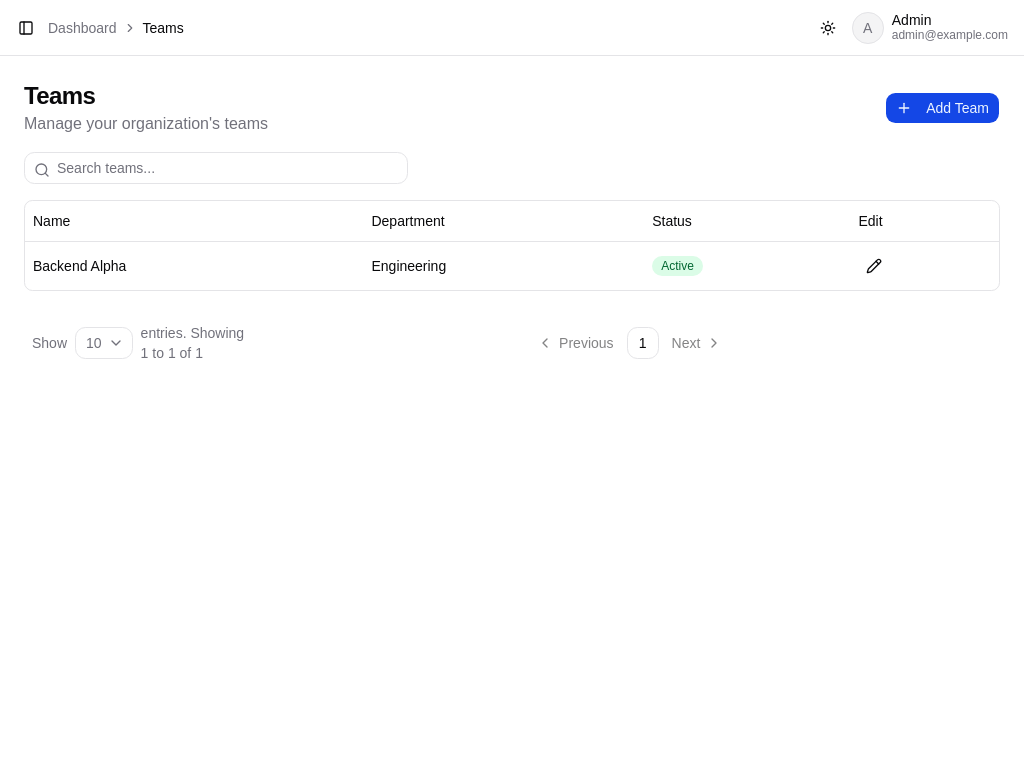
Test: Teams page › opens Add Team dialog and shows validation error for short name
Click the button "Add Team" at (943, 108), box top-left (885, 92), bottom-right (1000, 124)
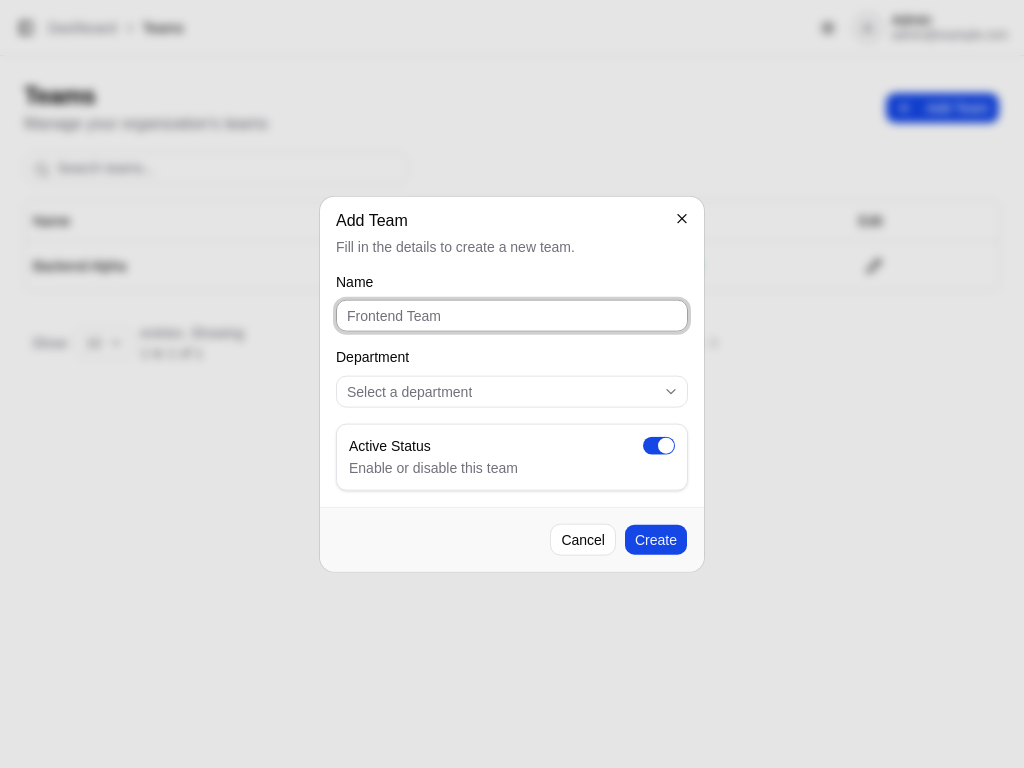
Expected: the dialog "Add Team" is shown, top-left (320, 197), bottom-right (704, 571)
Type "A" into the field with placeholder "Frontend Team" at (512, 316), box top-left (336, 300), bottom-right (688, 332)
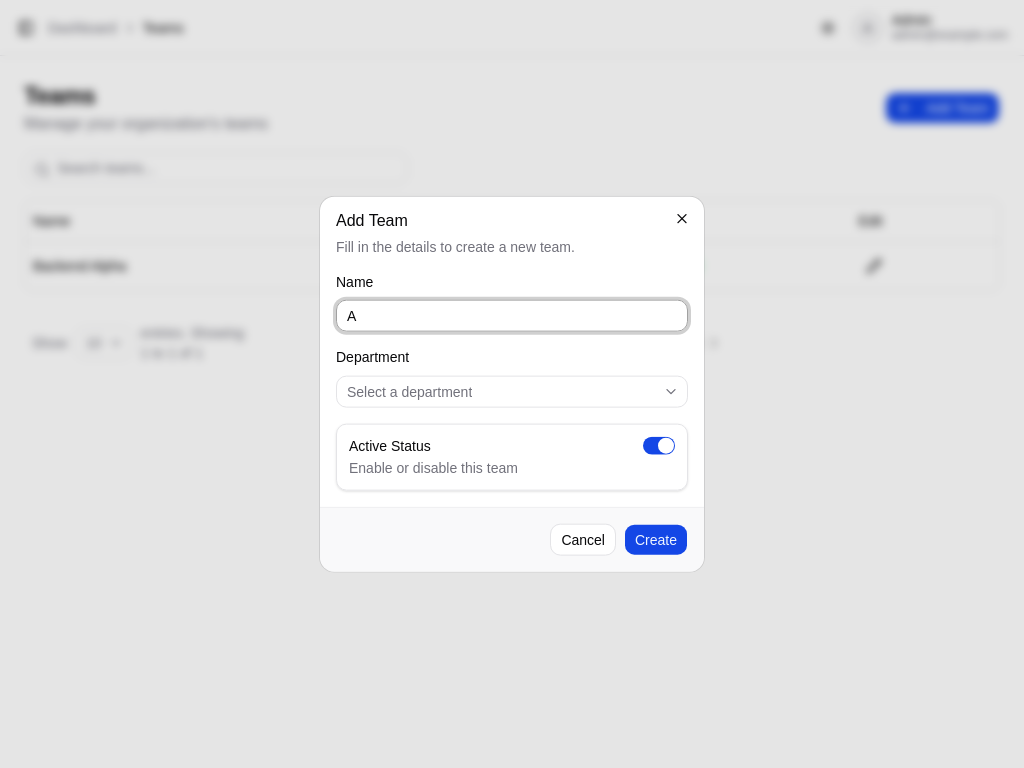
Click the button "Create" at (656, 539), box top-left (624, 523), bottom-right (688, 555)
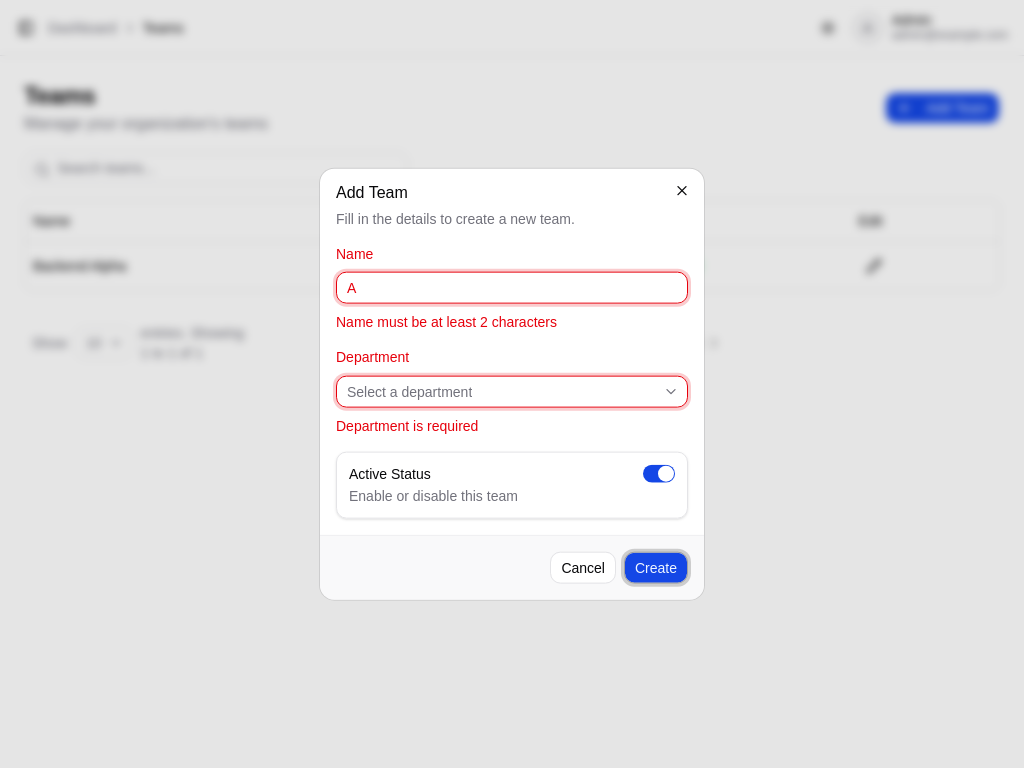
Expected: the text "Name must be at least 2 characters" is shown, top-left (336, 314), bottom-right (557, 330)
